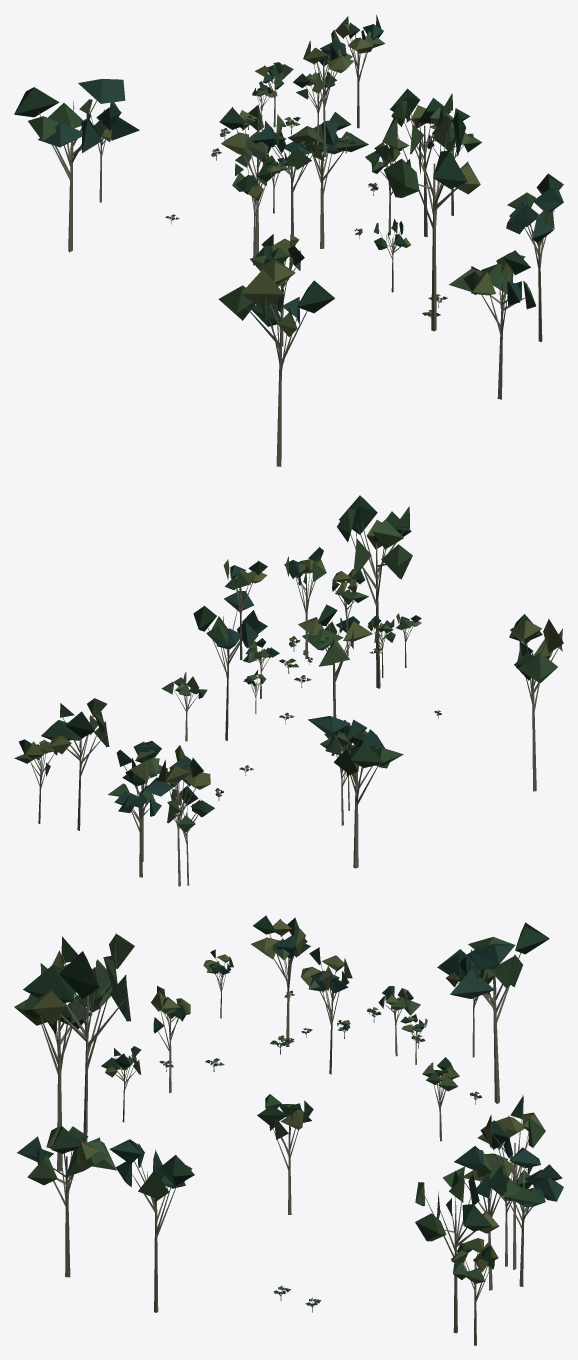
File: forest_19_20.dae
3 renders of one model, top to bottom at view 1: azimuth 30°, elevation 25°; view 2: azimuth 150°, elevation 25°; view 3: azimuth 270°, elevation 25°, orthographic. The views are drawn at different scales.
Visible parts, largest first — view 1: Node; view 2: Node; view 3: Node.
Boxes of the visible parts, x1,y1,x2,y2 form: Node: (14, 15, 563, 466); Node: (14, 495, 563, 886); Node: (14, 915, 563, 1345).
Size of the model in its own units: 11.42 by 11.64 by 7.78.
